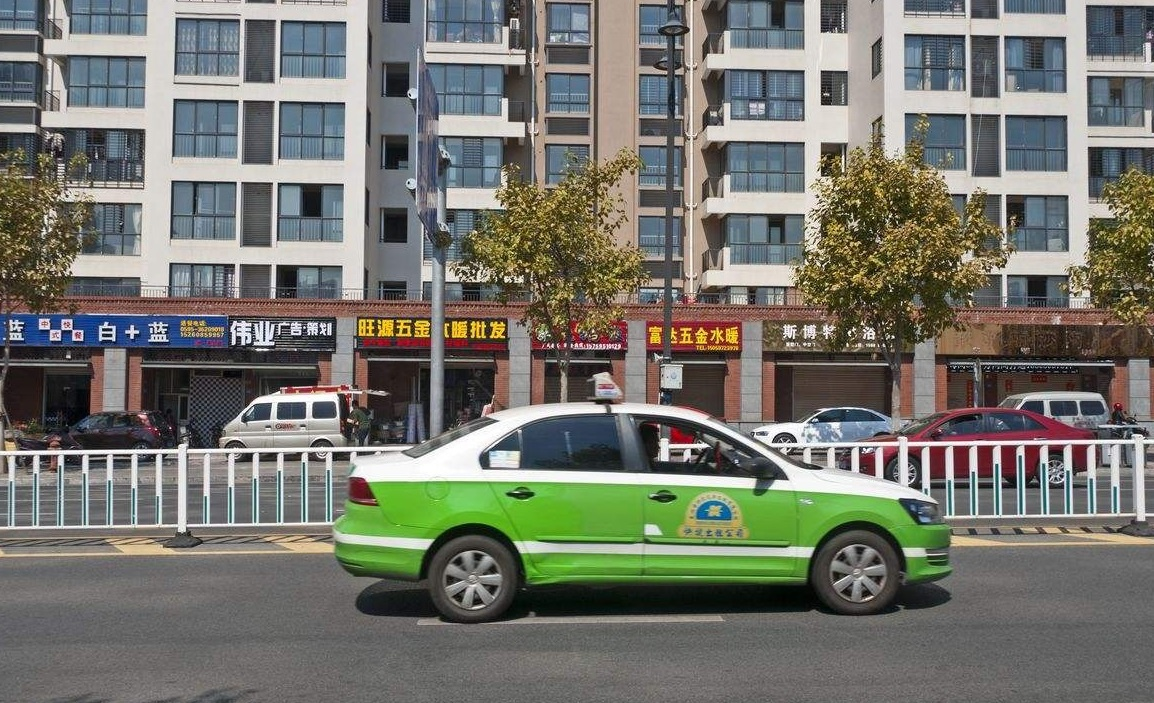taxi: (352, 385, 964, 623)
